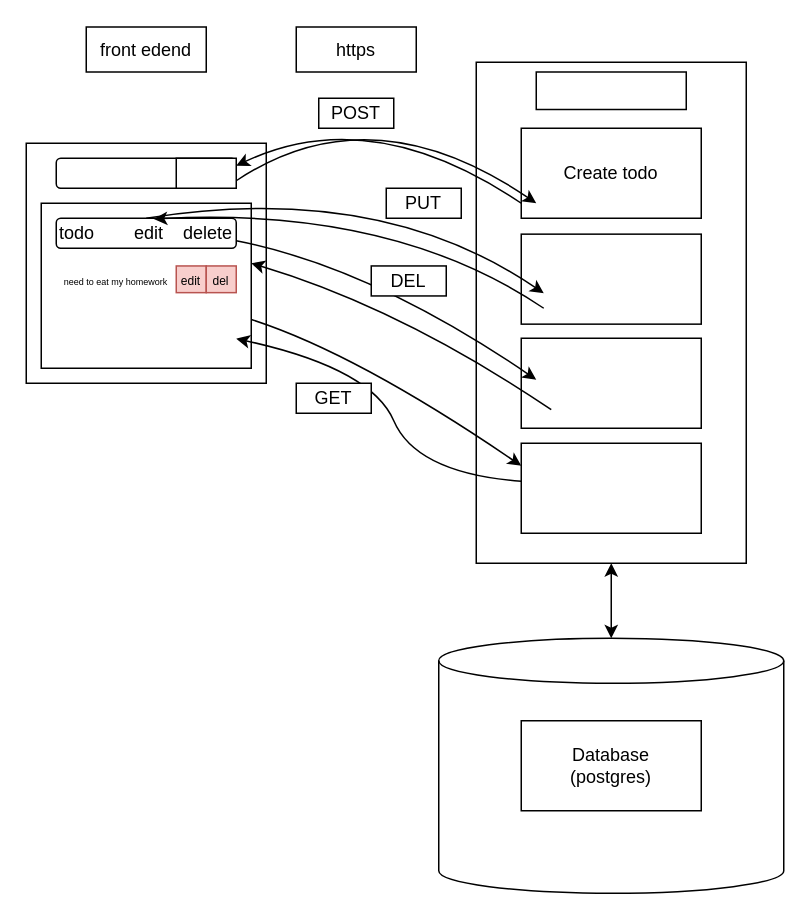
Image size: 810x920. Some labels were removed from this diagram. Each missing label, with the centre of its shape:
"Delete todo" goes at point (610, 382).
"Read all todo" goes at point (610, 487).
"submit" goes at point (205, 172).
"the server" goes at point (610, 90).
"Update todo" goes at point (610, 278).
